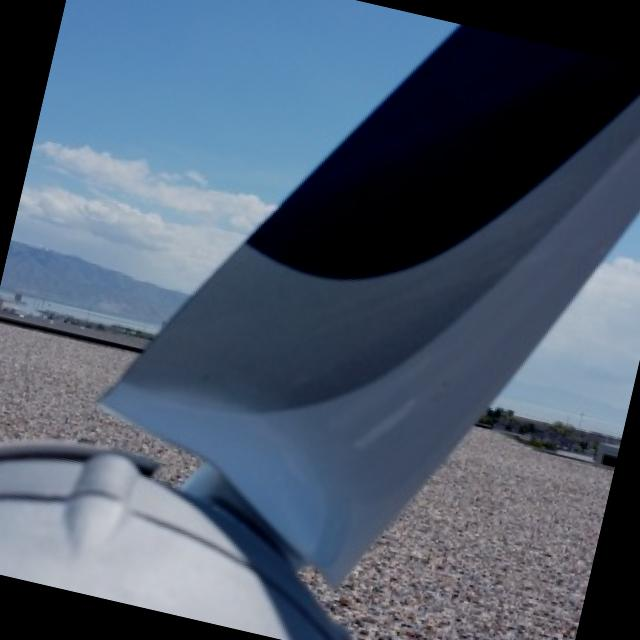healthy: (0, 453, 251, 622)
